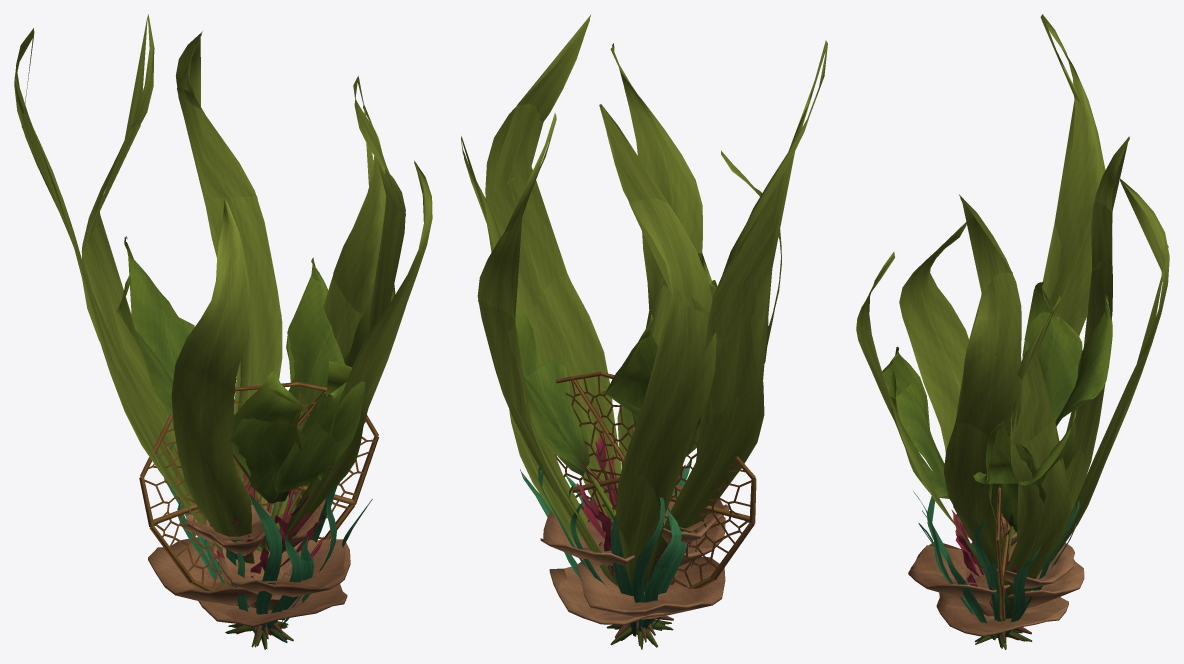
File: vegetation.glb
3 views of the same model, side by side, from view 1: azimuth 30°, elevation 25°; view 2: azimuth 150°, elevation 25°; view 3: azimuth 270°, elevation 25° (orthographic). The views are drawn at different scales.
Visible parts, largest first — view 1: veg_ribbon_kelp_full, veg_ribbon_kelp_low, veg_split_kelp_full, veg_split_kelp_low, veg_plate_coral_full, veg_plate_coral_low, veg_eelgrass_full, veg_sea_fan_low, veg_sea_fan_full, veg_red_algae_full, veg_eelgrass_low; view 2: veg_ribbon_kelp_full, veg_ribbon_kelp_low, veg_plate_coral_full, veg_split_kelp_low, veg_split_kelp_full, veg_eelgrass_full, veg_sea_fan_full, veg_sea_fan_low, veg_plate_coral_low, veg_eelgrass_low, veg_red_algae_full; view 3: veg_ribbon_kelp_full, veg_ribbon_kelp_low, veg_split_kelp_full, veg_plate_coral_full, veg_split_kelp_low, veg_plate_coral_low, veg_eelgrass_full, veg_eelgrass_low, veg_sea_fan_low, veg_red_algae_full.
Part boxes in pixels (left/top/right/bottom): veg_ribbon_kelp_full: left=14, top=14, right=432, bottom=647; veg_ribbon_kelp_low: left=21, top=16, right=405, bottom=648; veg_split_kelp_full: left=116, top=236, right=395, bottom=647; veg_split_kelp_low: left=117, top=237, right=394, bottom=649; veg_plate_coral_full: left=148, top=499, right=350, bottom=641; veg_plate_coral_low: left=186, top=497, right=345, bottom=639; veg_eelgrass_full: left=166, top=441, right=372, bottom=642; veg_sea_fan_low: left=139, top=382, right=378, bottom=628; veg_sea_fan_full: left=141, top=382, right=374, bottom=646; veg_red_algae_full: left=208, top=475, right=324, bottom=639; veg_eelgrass_low: left=177, top=493, right=371, bottom=630; veg_ribbon_kelp_full: left=461, top=15, right=827, bottom=646; veg_ribbon_kelp_low: left=461, top=15, right=825, bottom=646; veg_plate_coral_full: left=540, top=499, right=729, bottom=638; veg_split_kelp_low: left=526, top=253, right=716, bottom=649; veg_split_kelp_full: left=515, top=252, right=768, bottom=647; veg_eelgrass_full: left=520, top=461, right=696, bottom=644; veg_sea_fan_full: left=555, top=372, right=754, bottom=640; veg_sea_fan_low: left=555, top=372, right=756, bottom=645; veg_plate_coral_low: left=558, top=484, right=723, bottom=642; veg_eelgrass_low: left=520, top=460, right=689, bottom=636; veg_red_algae_full: left=576, top=433, right=693, bottom=640; veg_ribbon_kelp_full: left=856, top=14, right=1169, bottom=649; veg_ribbon_kelp_low: left=953, top=14, right=1168, bottom=649; veg_split_kelp_full: left=882, top=282, right=1112, bottom=647; veg_plate_coral_full: left=908, top=514, right=1084, bottom=641; veg_split_kelp_low: left=883, top=282, right=1108, bottom=648; veg_plate_coral_low: left=910, top=516, right=1068, bottom=642; veg_eelgrass_full: left=913, top=491, right=1079, bottom=642; veg_eelgrass_low: left=918, top=471, right=1076, bottom=640; veg_sea_fan_low: left=996, top=487, right=1022, bottom=633; veg_red_algae_full: left=951, top=509, right=1017, bottom=608.
Size of the model in its own units: 1.79 by 3.1 by 1.63.
1 material, 1 textured.
